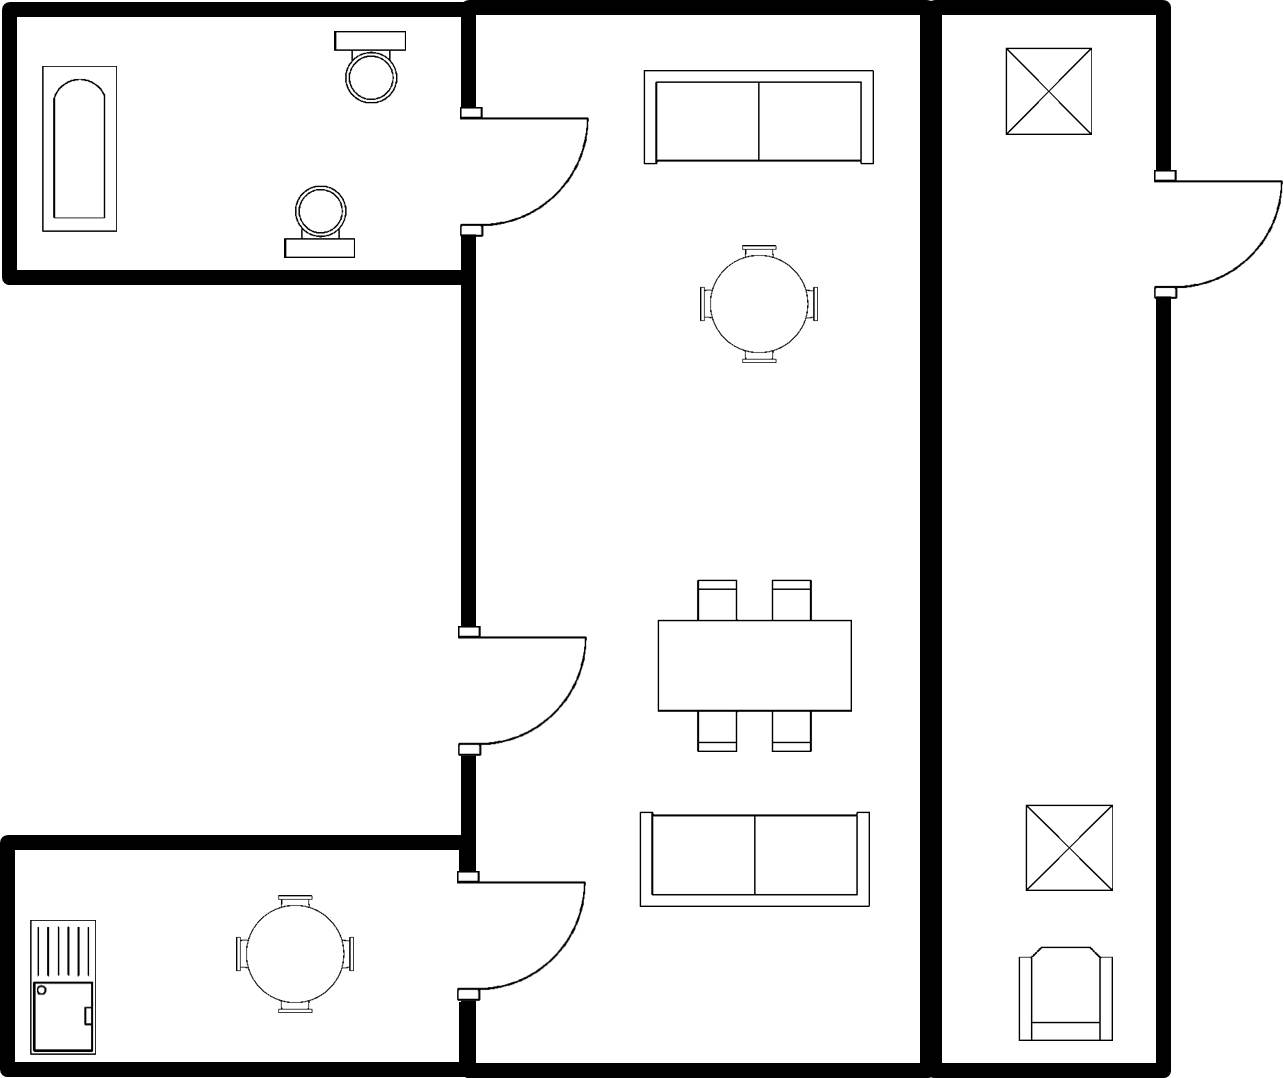armchair: (1009, 937, 1121, 1053)
coffee_table: (1000, 39, 1104, 147), (1017, 797, 1120, 897)
dining_table: (650, 574, 860, 757)
large_sink: (276, 178, 366, 266), (329, 22, 418, 109)
large_sofa: (637, 61, 882, 173), (631, 806, 880, 914)
round_table: (687, 236, 827, 372), (230, 887, 363, 1022)
sink: (23, 913, 102, 1062)
tub: (34, 60, 126, 240)
